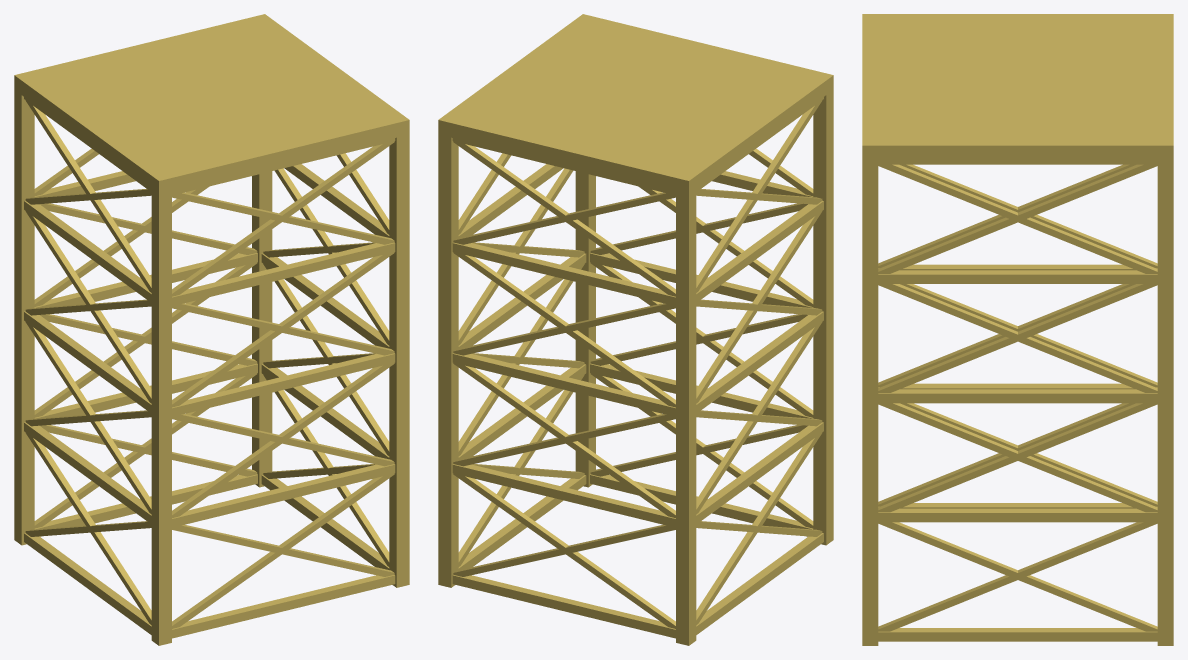
File: dm_latticetower.glb
3 views of the same model, side by side, from view 1: azimuth 30°, elevation 25°; view 2: azimuth 150°, elevation 25°; view 3: azimuth 270°, elevation 25° (orthographic). The views are drawn at different scales.
Parts seen in each view (by area): view 1: dm_latticetower; view 2: dm_latticetower; view 3: dm_latticetower.
Part boxes in pixels (x1=…): dm_latticetower: x1=14, y1=14, x2=409, y2=645; dm_latticetower: x1=438, y1=14, x2=833, y2=645; dm_latticetower: x1=862, y1=14, x2=1173, y2=645.
Size of the model in its own units: 5.4 by 9.57 by 5.4.
